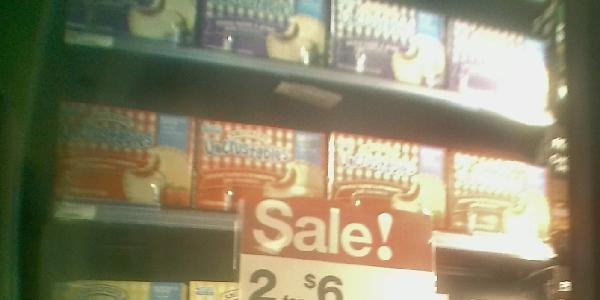icecream: (50, 86, 194, 216), (197, 101, 330, 234), (330, 121, 450, 240), (454, 148, 555, 253)
